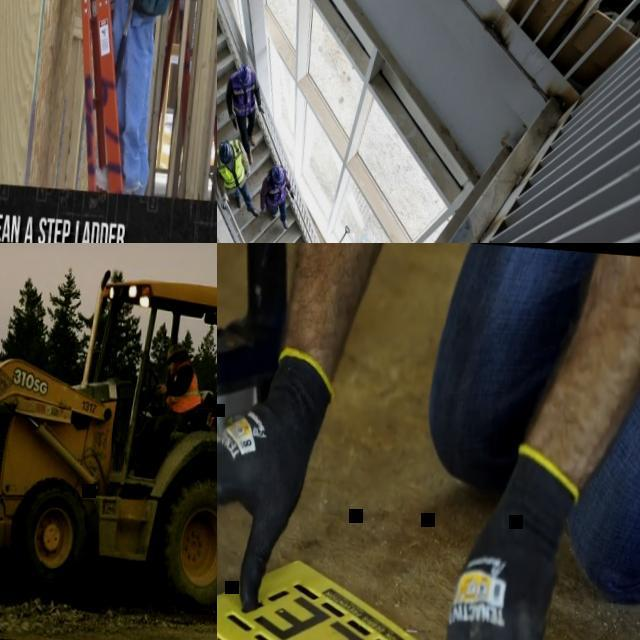helmet: (164, 340, 186, 360), (236, 63, 252, 89), (217, 139, 233, 165), (270, 165, 286, 187)
vest: (162, 358, 204, 414), (217, 136, 247, 188), (227, 67, 258, 116), (263, 166, 287, 203)
